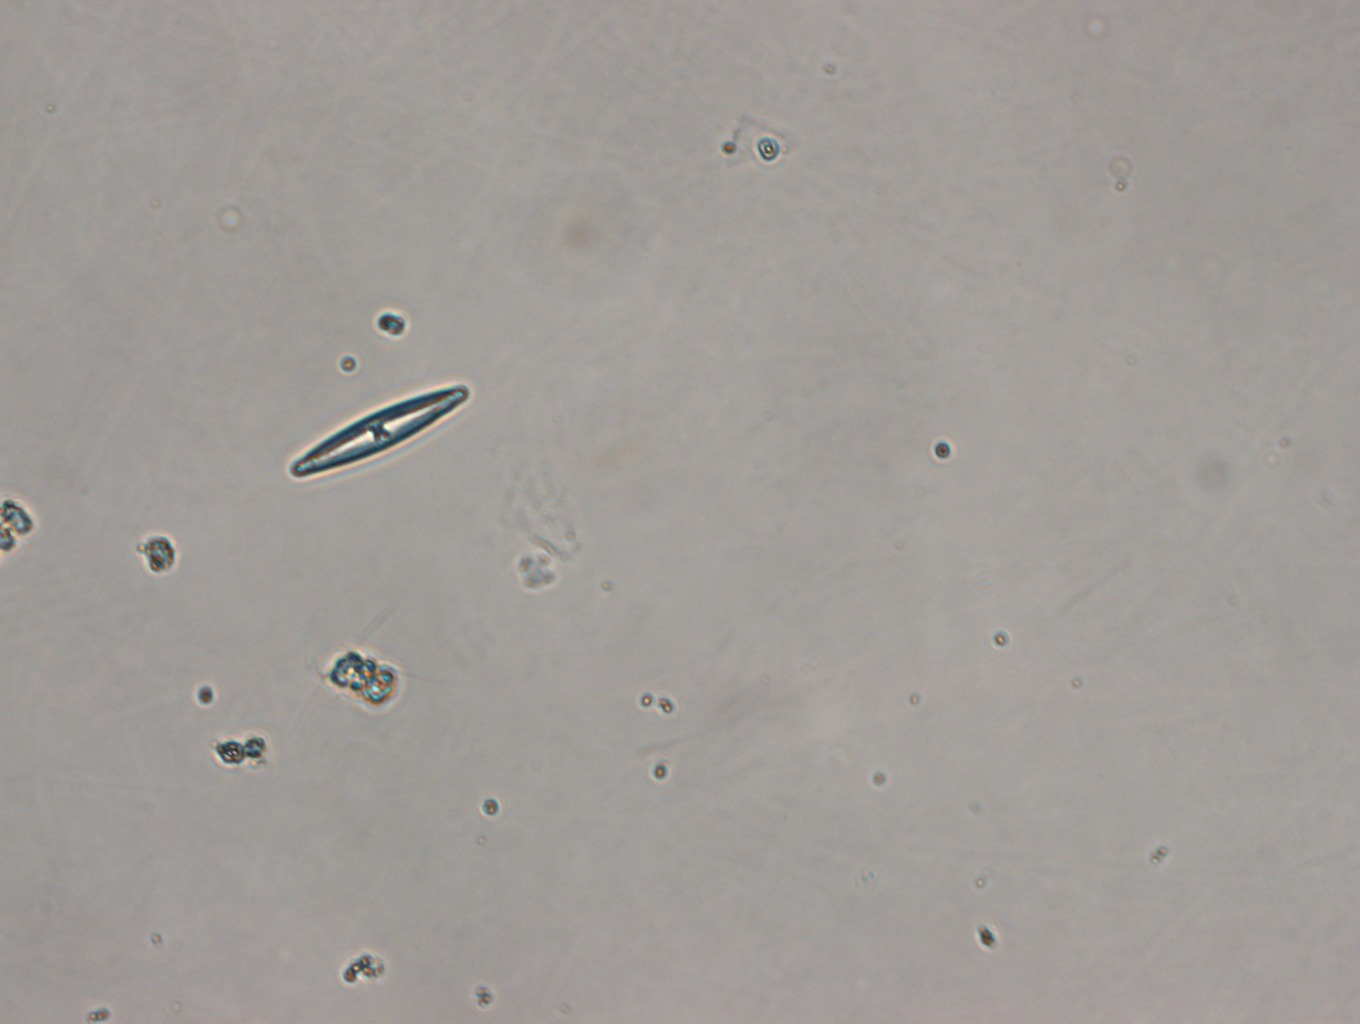navicula: (285, 379, 475, 479)
